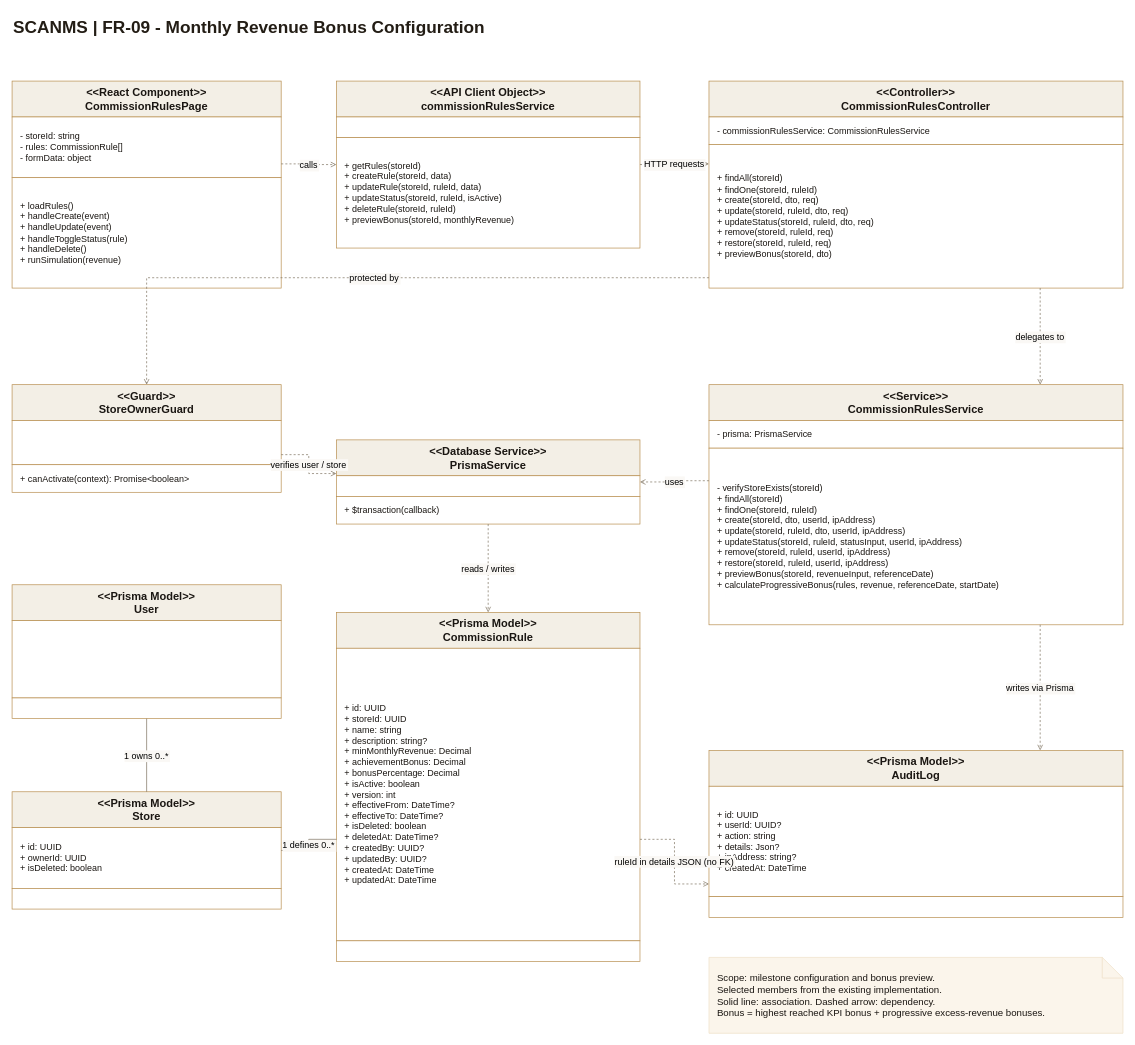
Some shapes in this 1135 by 1045 pixel diagram are drawn without their labels. Each missing label, with the centre of its shape:
"+ id: UUID + role: UserRole + isActive: boolean + isDeleted: boolean" goes at point 146,659.
"- prisma: PrismaService - jwtService: JwtService" goes at point 146,442.
